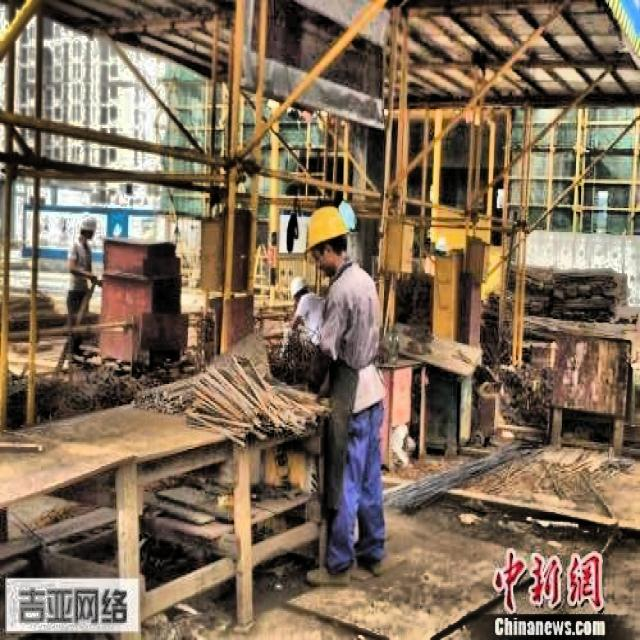helmet: (301, 198, 357, 283)
